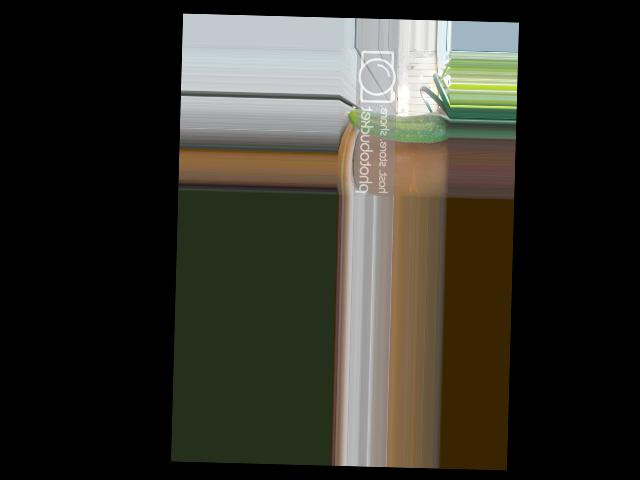cucumber: (342, 108, 449, 143)
